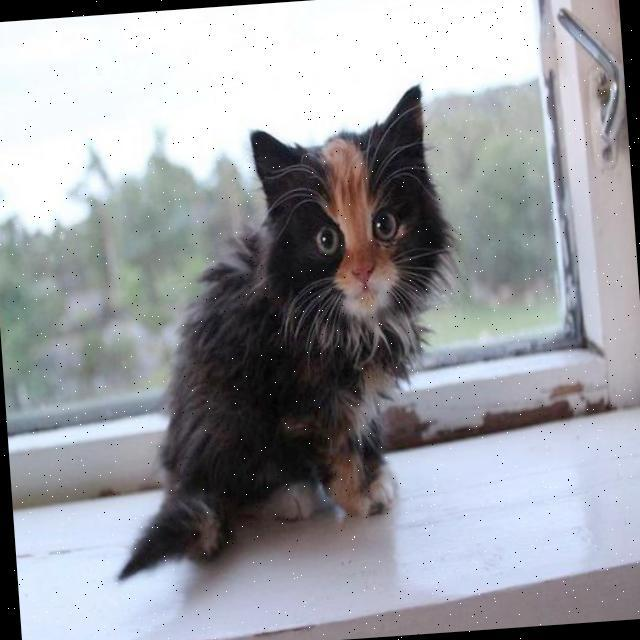Cats: (66, 82, 496, 564)
